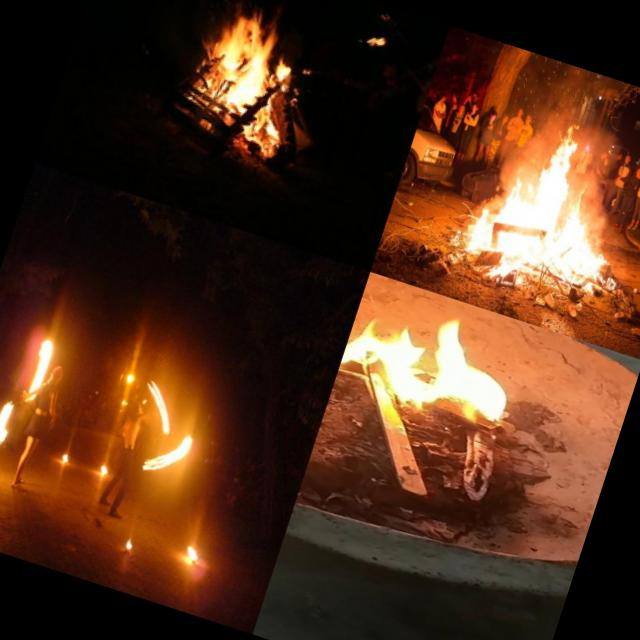fire: (329, 272, 547, 456), (171, 0, 337, 161), (454, 172, 613, 296), (126, 395, 212, 495), (540, 123, 607, 205), (12, 329, 61, 416), (175, 530, 207, 580), (0, 394, 19, 462), (119, 534, 138, 558), (58, 446, 78, 468), (96, 461, 110, 482)
smoke: (514, 54, 634, 152), (496, 102, 563, 190), (584, 149, 636, 216)
